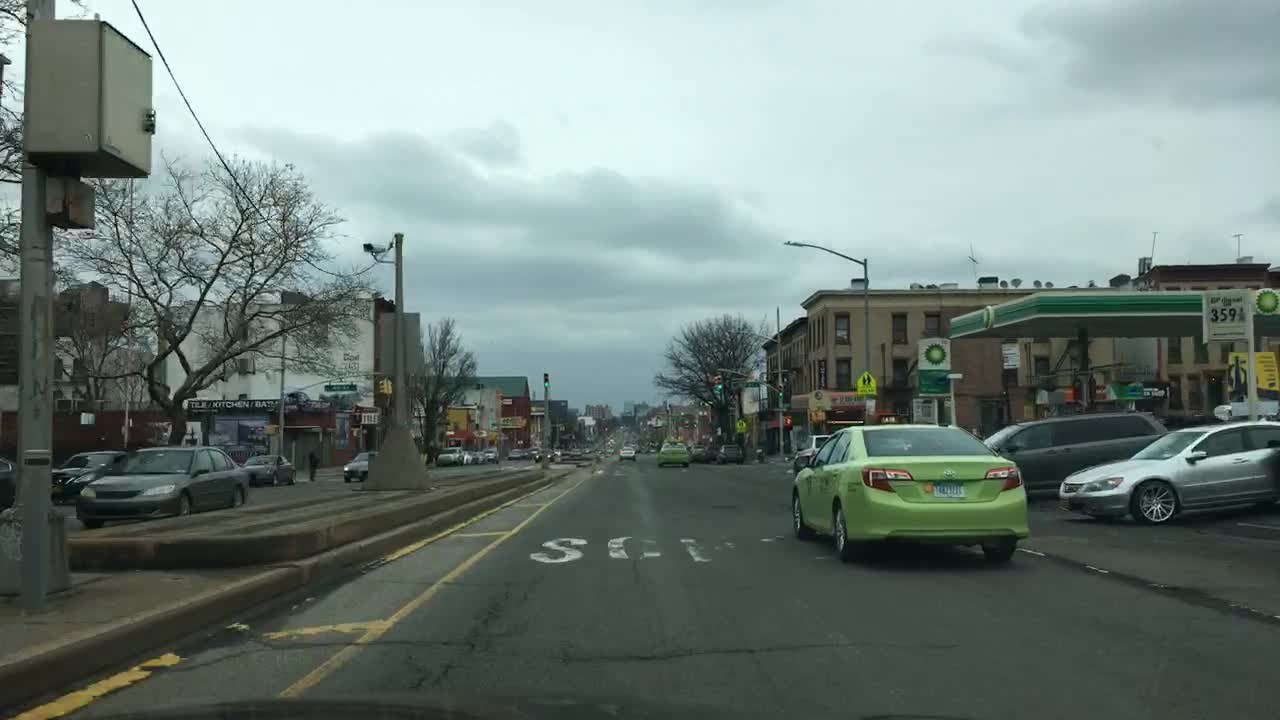car: (788, 422, 1029, 558), (1058, 417, 1279, 528), (982, 411, 1167, 495), (76, 444, 246, 530), (45, 447, 126, 503), (242, 453, 295, 488), (793, 430, 828, 476), (342, 449, 379, 483), (654, 437, 688, 466), (0, 454, 18, 508), (435, 442, 465, 464), (717, 442, 746, 462), (531, 448, 560, 466), (686, 443, 708, 463), (617, 442, 639, 461), (482, 448, 501, 463), (474, 449, 489, 466), (707, 443, 722, 460), (462, 448, 475, 466), (510, 446, 524, 460), (528, 444, 541, 456), (570, 446, 583, 456)
person: (305, 444, 320, 479)
traffic light: (260, 422, 278, 435), (774, 381, 786, 400), (810, 408, 825, 423), (712, 374, 722, 393), (541, 369, 548, 391), (376, 376, 384, 395), (781, 415, 791, 428), (384, 381, 393, 395)
traffic sign: (855, 369, 877, 393), (322, 381, 356, 393), (361, 408, 379, 425), (769, 403, 789, 415), (741, 376, 759, 388), (734, 417, 746, 434)
